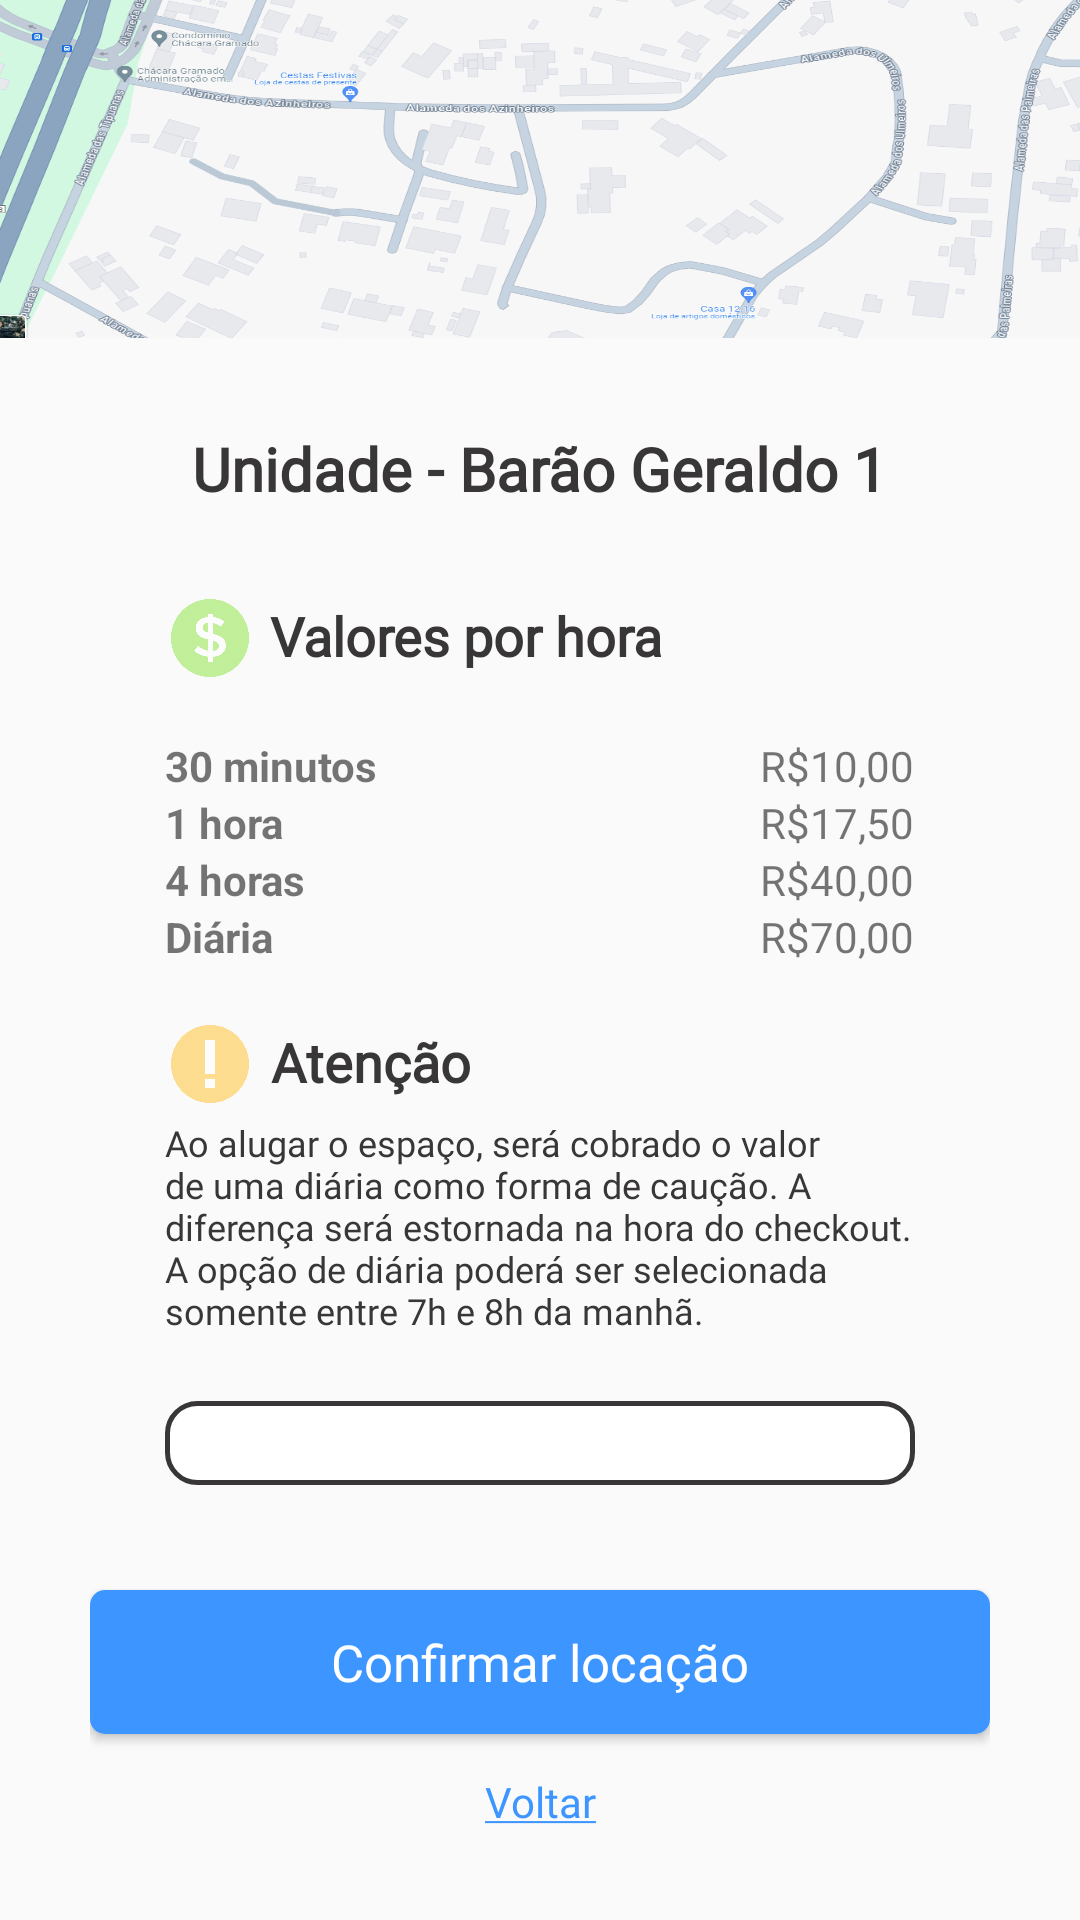

Screen size 1080 × 1920. Icon name, then its center in pixels as (x,y):
danger: (210,1064)
money: (210,638)
